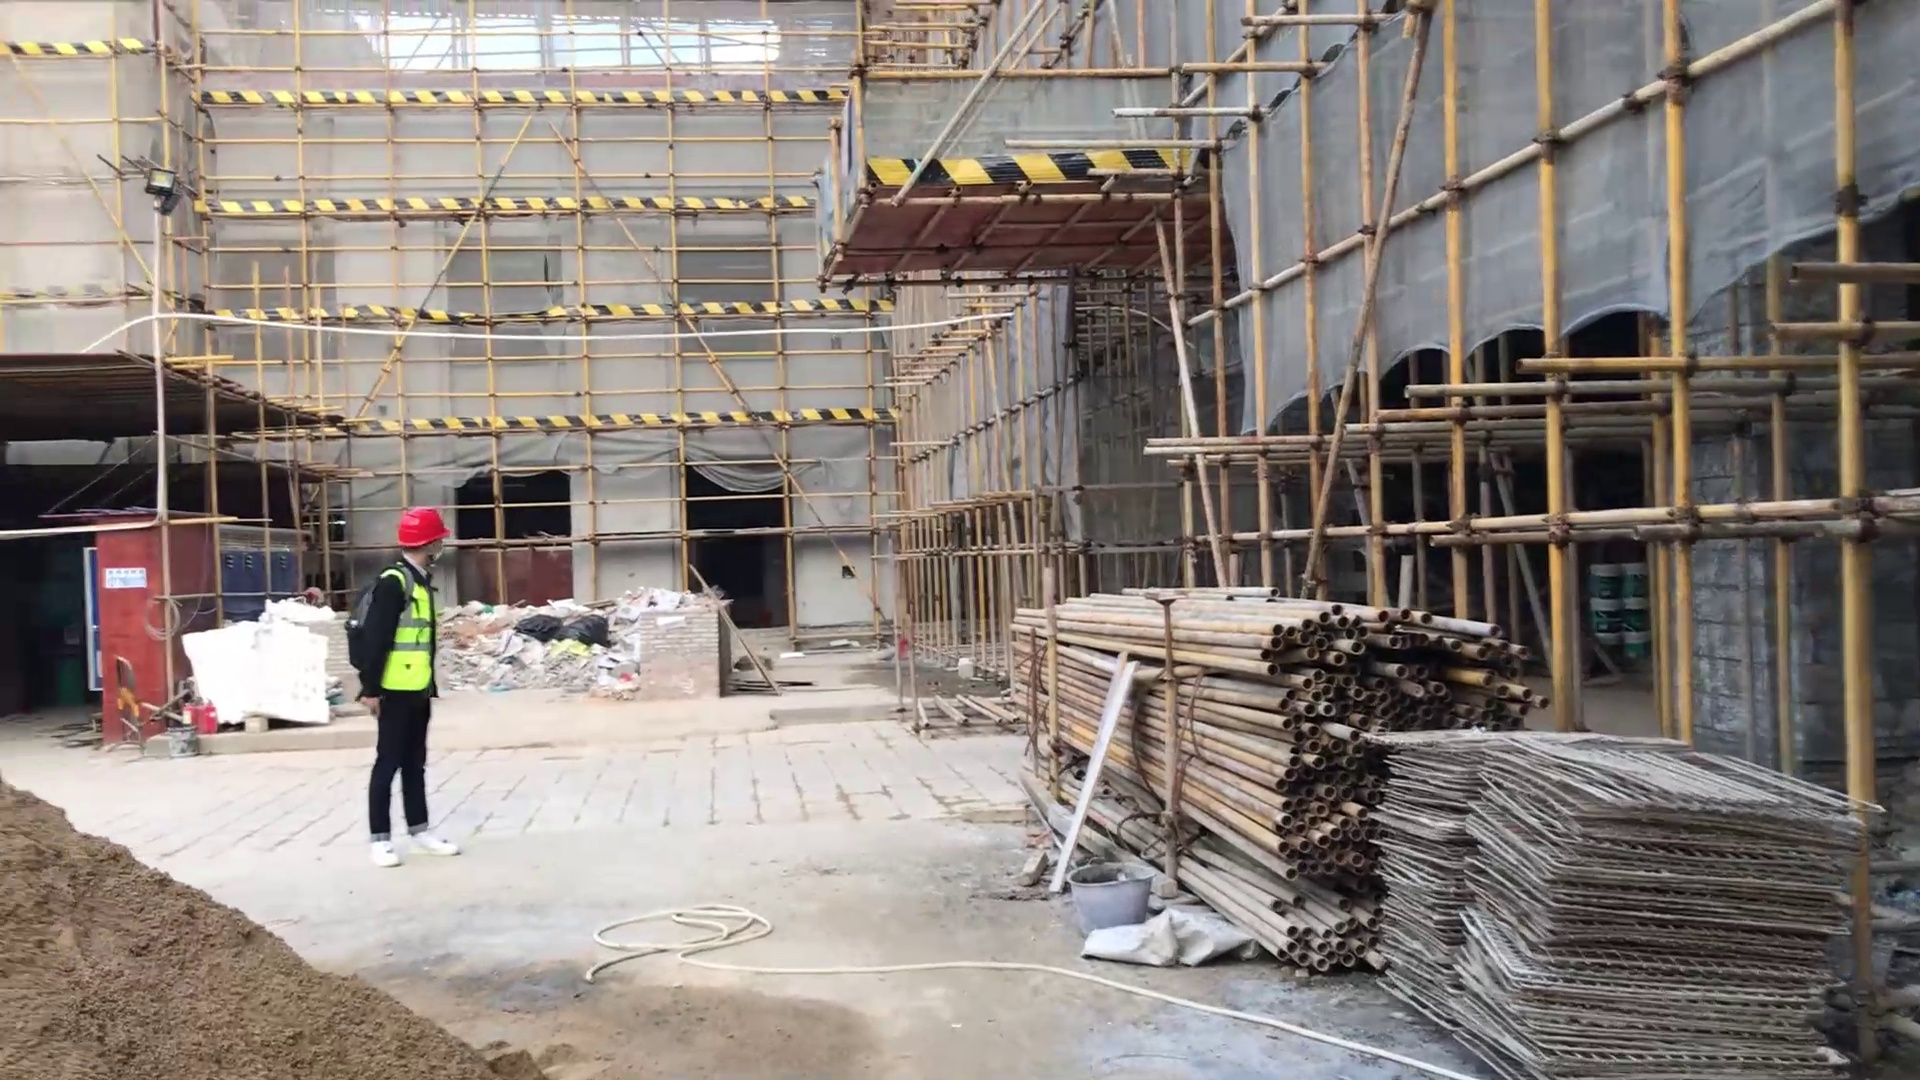helmet: (389, 502, 455, 556)
person: (343, 502, 471, 875)
vest: (356, 567, 445, 705)
